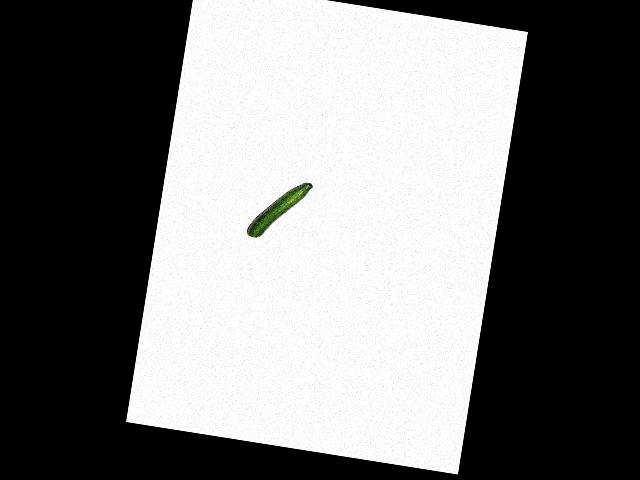cucumber: (246, 174, 312, 245)
